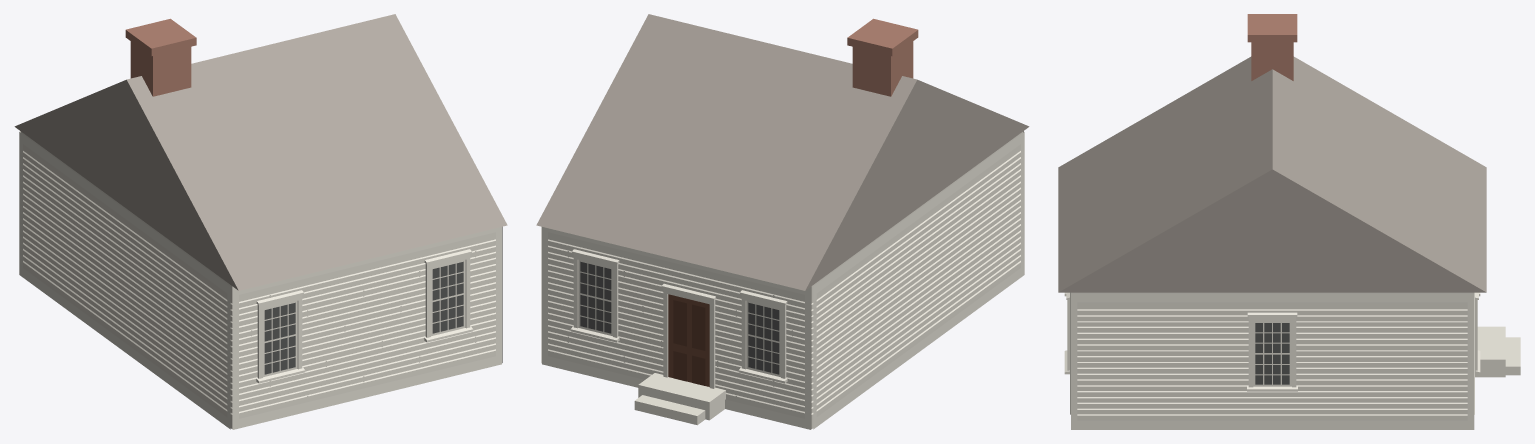
File: recon_1835_blk_west_washington_canal_d4_03__inferred_1835.glb
The picture shows the model from 3 angles, left to right: view 1: azimuth 30°, elevation 25°; view 2: azimuth 150°, elevation 25°; view 3: azimuth 270°, elevation 25°; orthographic projection. The views are drawn at different scales.
Parts seen in each view (by area): view 1: recon_1835_blk_west_washington_canal_d4_03__inferred_1835; view 2: recon_1835_blk_west_washington_canal_d4_03__inferred_1835; view 3: recon_1835_blk_west_washington_canal_d4_03__inferred_1835.
Part boxes in pixels (x1,y1,x2,y2): recon_1835_blk_west_washington_canal_d4_03__inferred_1835: (14,14,507,429); recon_1835_blk_west_washington_canal_d4_03__inferred_1835: (536,14,1029,429); recon_1835_blk_west_washington_canal_d4_03__inferred_1835: (1058,14,1520,429).
Bounding box in the file's own units: 6.01 × 6.45 × 9.14.
